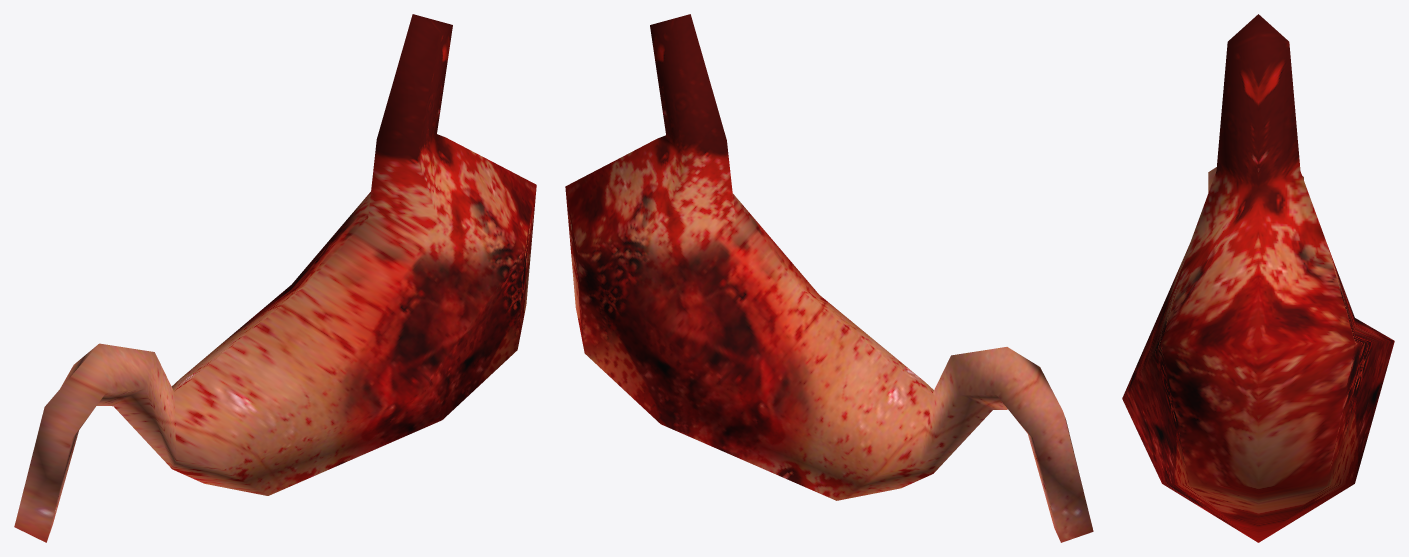
The model's file is gib_stomach.fbx.
3 views of the same model, side by side, from view 1: azimuth 30°, elevation 25°; view 2: azimuth 150°, elevation 25°; view 3: azimuth 270°, elevation 25° (orthographic). The views are drawn at different scales.
Parts seen in each view (by area): view 1: stomach; view 2: stomach; view 3: stomach.
Part boxes in pixels (box(x1,y1,x2,y2)): stomach: box(14, 14, 536, 542); stomach: box(565, 14, 1093, 542); stomach: box(1122, 14, 1394, 542).
Size of the model in its own units: 0.2594 by 0.2022 by 0.0928.
